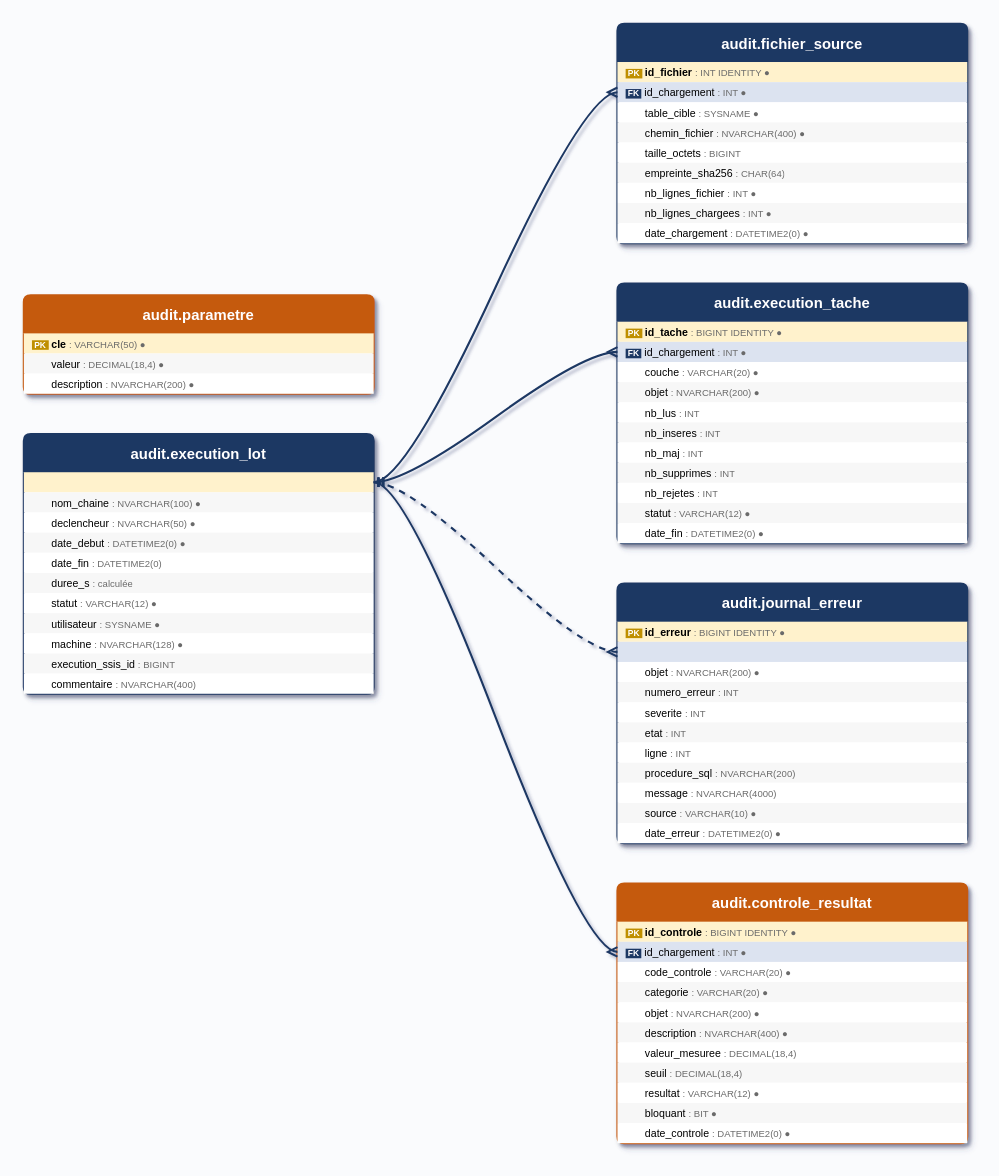
Some shapes in this 999 by 1176 pixel diagram are drawn without their labels. Here are the shapes that lost their labels. From the top down, the centre of each, then its label:
(x=198, y=482): PK id_chargement : INT IDENTITY ●
(x=792, y=651): LL id_chargement : INT
